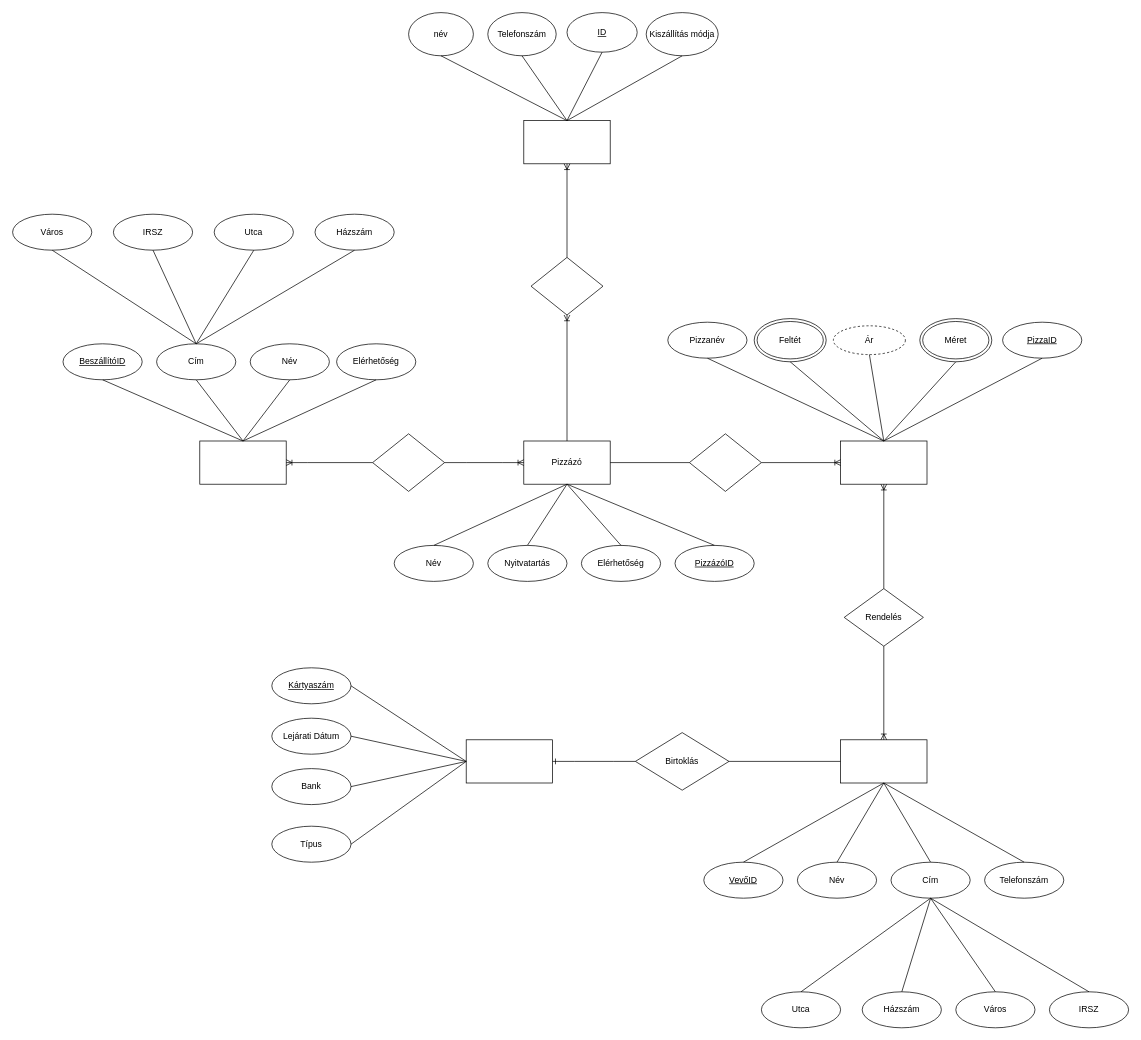
Image size: 1141x1040. Some labels were removed from this diagram. Here are the shapes that lost their labels. From the top down, the box of each, then its label:
(523, 120, 610, 164): Futár
(530, 257, 603, 315): kiszállítás
(199, 440, 286, 484): Beszállító
(372, 433, 445, 491): Beszállítás
(689, 433, 761, 491): Elkészítés
(840, 440, 927, 484): Pizza
(465, 739, 553, 783): Bankkártya
(840, 739, 927, 783): Vevő
